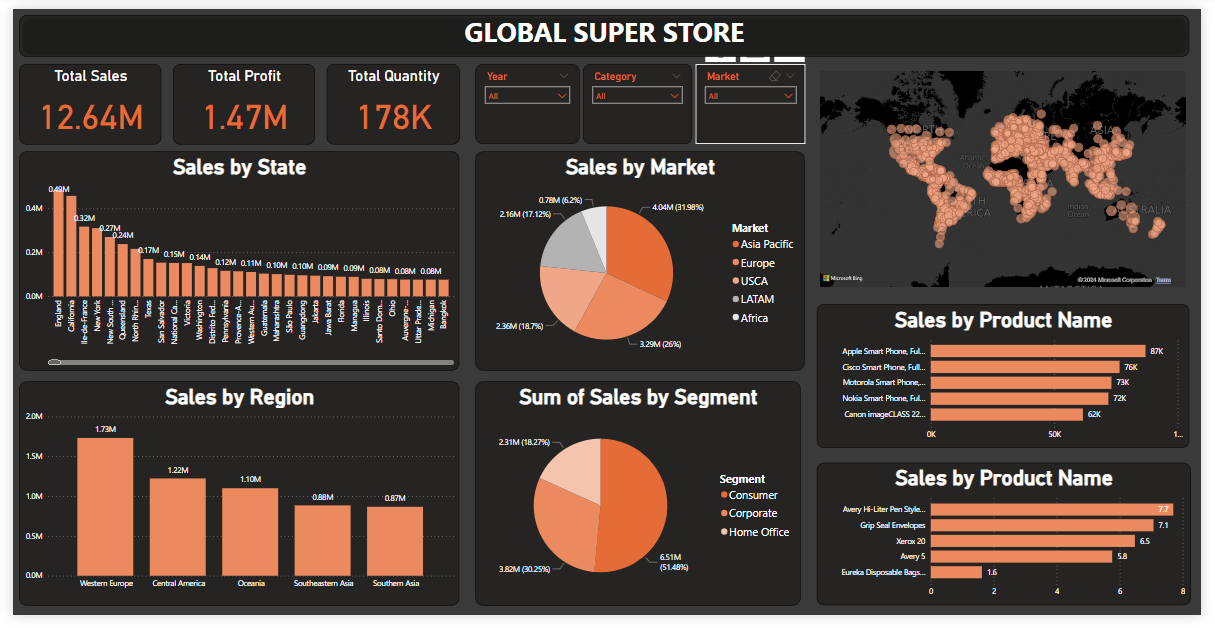

What the dashboard file says about the page in this screenshot:
{"tool":"powerbi","page":{"name":"OVERVIEW","canvas":[1900,970],"ordinal":0},"visuals":[{"type":"slicer","fields":{"Values":["Orders.Order Date.Variation.Date Hierarchy.Year"]},"box":[740,88,166,128],"z":0},{"type":"slicer","fields":{"Values":["Orders.Category"]},"box":[912,88,174,128],"z":1000},{"type":"slicer","fields":{"Values":["Orders.Market"]},"box":[1092,88,176,128],"z":2000},{"type":"card","title":"Total Sales","fields":{"Values":["Sum(Orders.Sales)"]},"box":[10,87.1,227.1,128.6],"z":3000},{"type":"card","title":"Total Profit","fields":{"Values":["Sum(Orders.Profit)"]},"box":[255.7,87.1,227.1,128.6],"z":4000},{"type":"card","title":"Total Quantity","fields":{"Values":["Sum(Orders.Quantity)"]},"box":[501.4,87.1,212.9,128.6],"z":5000},{"type":"columnChart","title":"Sales by State","fields":{"Y":["Sum(Orders.Sales)"],"Category":["Orders.State"]},"box":[10,228,704,350],"z":6000},{"type":"columnChart","title":"Sales by Region","fields":{"Y":["Sum(Orders.Sales)"],"Category":["Orders.Region"]},"box":[10,596,704,358],"z":7000},{"type":"pieChart","title":"Sales by Market","fields":{"Category":["Orders.Market"],"Y":["Sum(Orders.Sales)"]},"box":[740,228,526,350],"z":8000},{"type":"pieChart","fields":{"Y":["Sum(Orders.Sales)"],"Category":["Orders.Segment"]},"box":[740,596,520,358],"z":9000},{"type":"barChart","title":"Sales by Product Name","fields":{"Category":["Orders.Product Name"],"Y":["Sum(Orders.Sales)"]},"box":[1286,472,596,230],"z":10000},{"type":"barChart","title":"Sales by Product Name","fields":{"Category":["Orders.Product Name"],"Y":["Sum(Orders.Sales)"]},"box":[1286,726,598,228],"z":11000},{"type":"map","fields":{"Category":["Orders.State"],"Size":["Sum(Orders.Profit)"]},"box":[1286,94,596,356],"z":12000},{"type":"shape","box":[10,10,1872,66],"z":13000},{"type":"textbox","box":[10,2,1872,76],"z":14000}]}

Visuals, with their boxes in screenshot pixels (x1, y1, x2, y2), scaled from the page's 1900x970 canvas onto the 1215x628 screenshot:
slicer - Orders.Order Date.Variation.Date Hierarchy.Year: bbox(473, 57, 579, 140)
slicer - Orders.Category: bbox(583, 57, 694, 140)
slicer - Orders.Market: bbox(698, 57, 811, 140)
"Total Sales" card: bbox(6, 56, 152, 140)
"Total Profit" card: bbox(164, 56, 309, 140)
"Total Quantity" card: bbox(321, 56, 457, 140)
"Sales by State" columnChart: bbox(6, 148, 457, 374)
"Sales by Region" columnChart: bbox(6, 386, 457, 618)
"Sales by Market" pieChart: bbox(473, 148, 810, 374)
pieChart - Sum(Orders.Sales) x Orders.Segment: bbox(473, 386, 806, 618)
"Sales by Product Name" barChart: bbox(822, 306, 1203, 454)
"Sales by Product Name" barChart: bbox(822, 470, 1205, 618)
map - Orders.State x Sum(Orders.Profit): bbox(822, 61, 1203, 291)
shape: bbox(6, 6, 1203, 49)
textbox: bbox(6, 1, 1203, 50)
